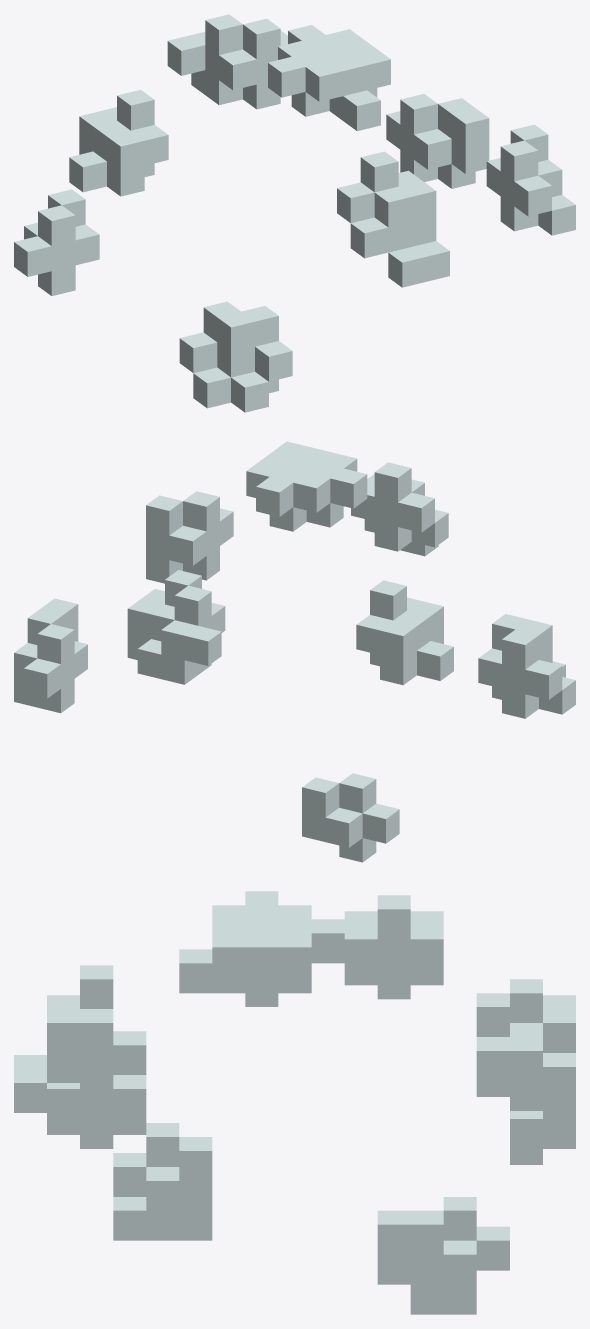
Rendered from Medieval Assets-30-Decoration - Swamp - Mushroom - Top Highlight.obj.
3 renders of one model, top to bottom at view 1: azimuth 30°, elevation 25°; view 2: azimuth 150°, elevation 25°; view 3: azimuth 270°, elevation 25°, orthographic. The views are drawn at different scales.
Parts seen in each view (by area): view 1: Decoration - Swamp - Mushroom - Top Highlight; view 2: Decoration - Swamp - Mushroom - Top Highlight; view 3: Decoration - Swamp - Mushroom - Top Highlight.
Boxes of the visible parts, left/top/right/bottom form: Decoration - Swamp - Mushroom - Top Highlight: left=14, top=14, right=575, bottom=412; Decoration - Swamp - Mushroom - Top Highlight: left=14, top=441, right=575, bottom=862; Decoration - Swamp - Mushroom - Top Highlight: left=14, top=891, right=575, bottom=1314.
Size of the model in its own units: 1.7 by 1.1 by 1.7.
Materials: 1 (1 with a texture image).
